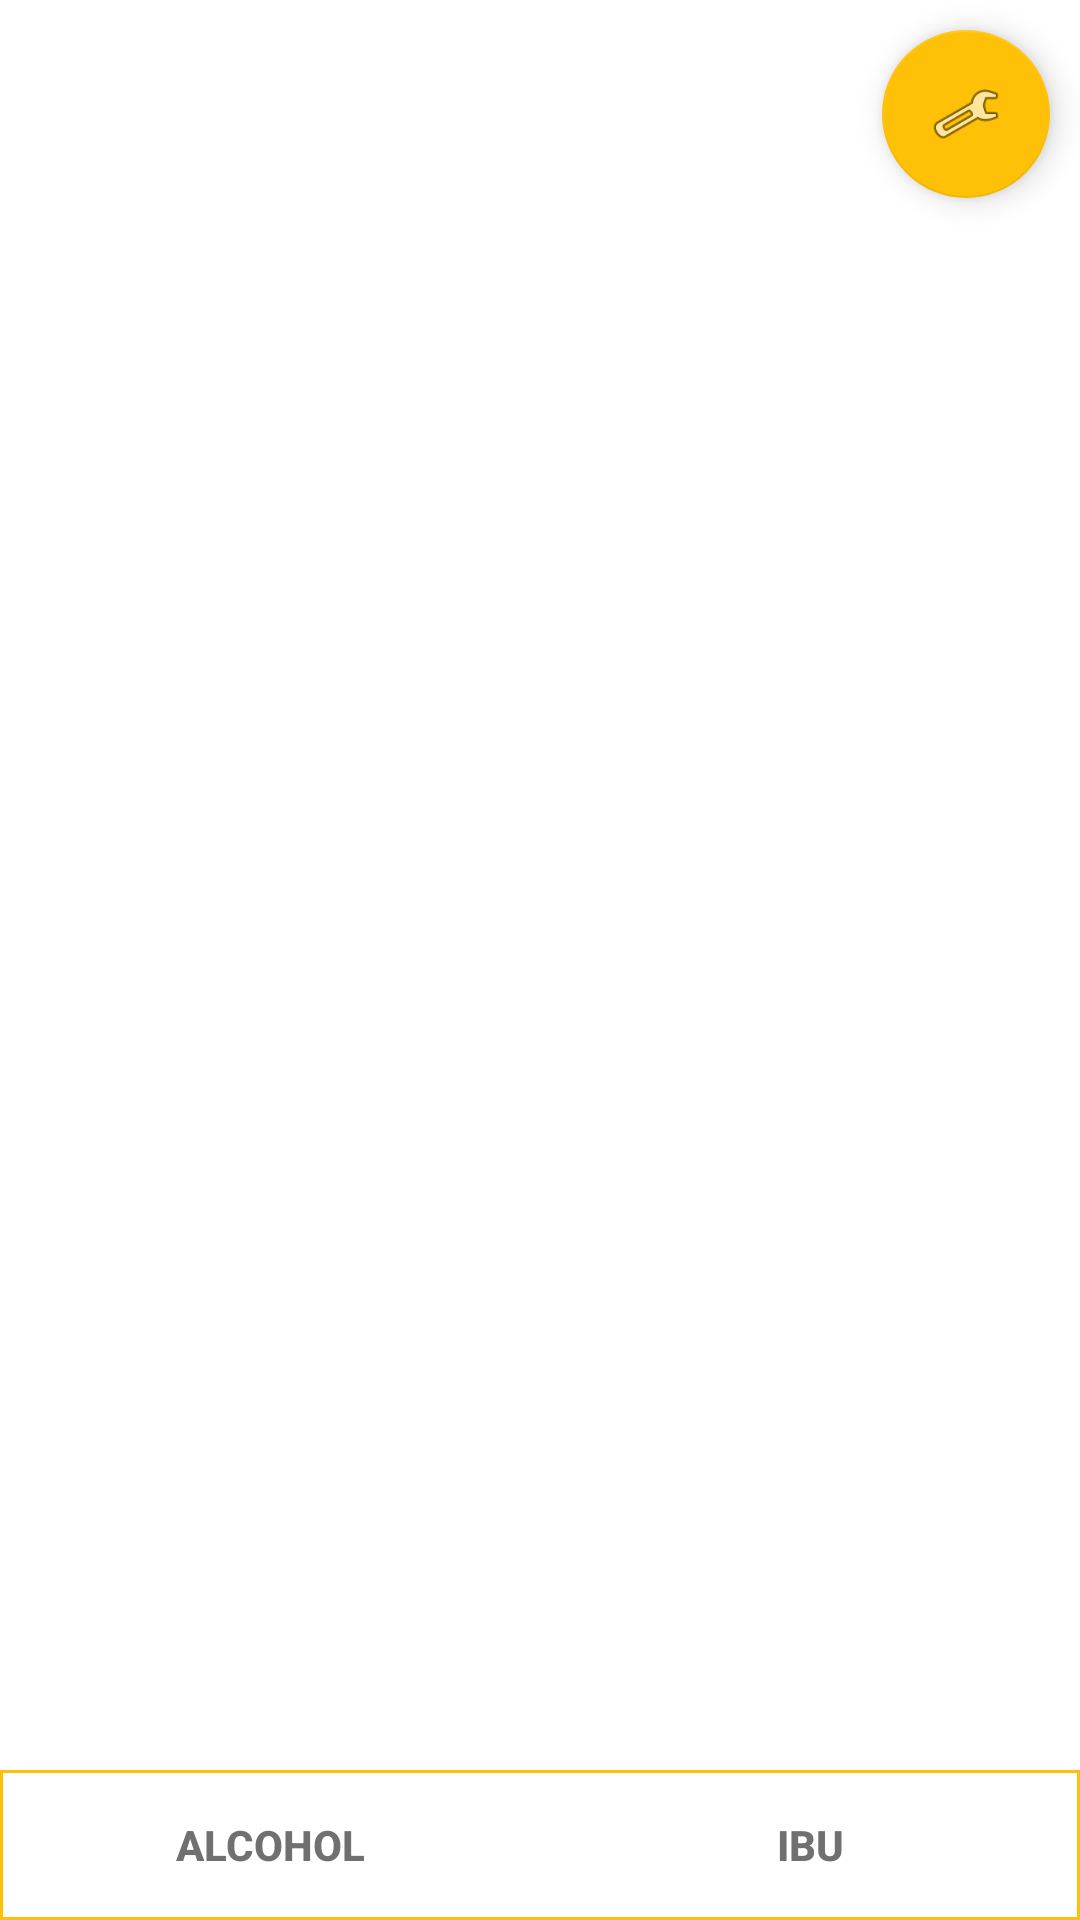

Where to tap for icons on this 1080px×1920px app screen, as point (x, y):
preferences: point (966, 114)
